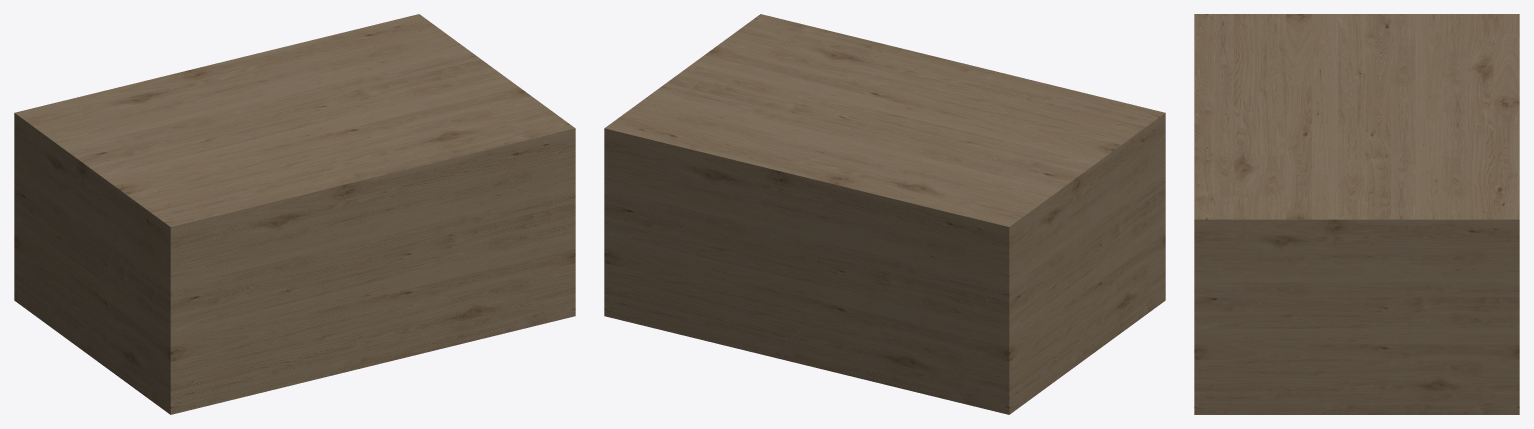
3 renders of one model, left to right at view 1: azimuth 30°, elevation 25°; view 2: azimuth 150°, elevation 25°; view 3: azimuth 270°, elevation 25°, orthographic. The views are drawn at different scales.
Visible parts, largest first — view 1: Box002; view 2: Box002; view 3: Box002.
Boxes of the visible parts, <box> form: Box002: <box>14,14,575,414</box>; Box002: <box>604,14,1165,414</box>; Box002: <box>1194,14,1519,414</box>.
Bounding box in the file's own units: 0.0959 × 0.0425 × 0.0641.
Materials: 1 (1 with a texture image).
